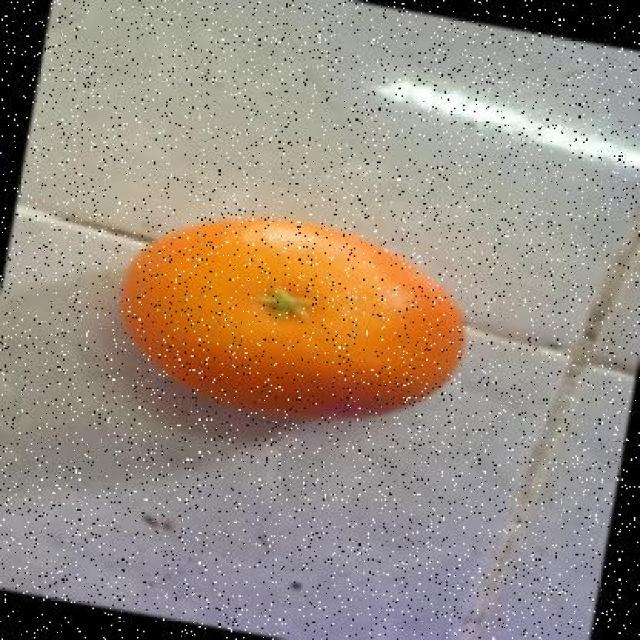Orange: (117, 214, 466, 422)
